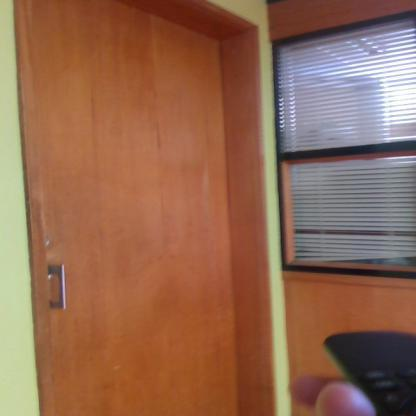door: (27, 0, 237, 415)
